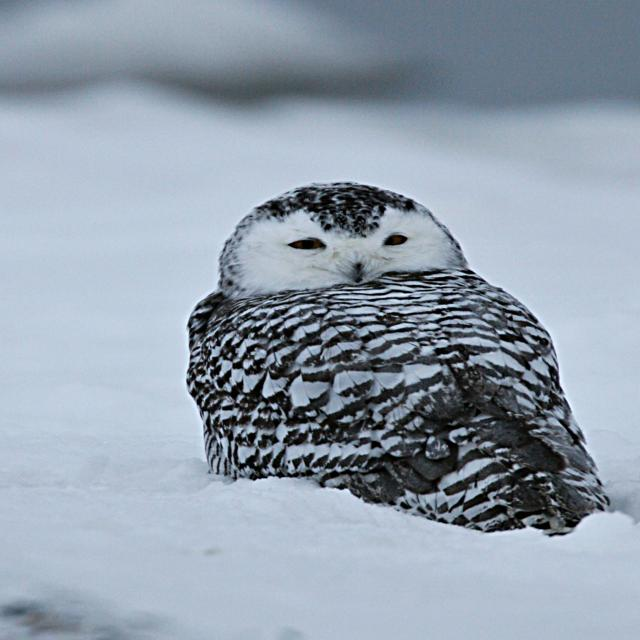Owl: (193, 176, 606, 532)
